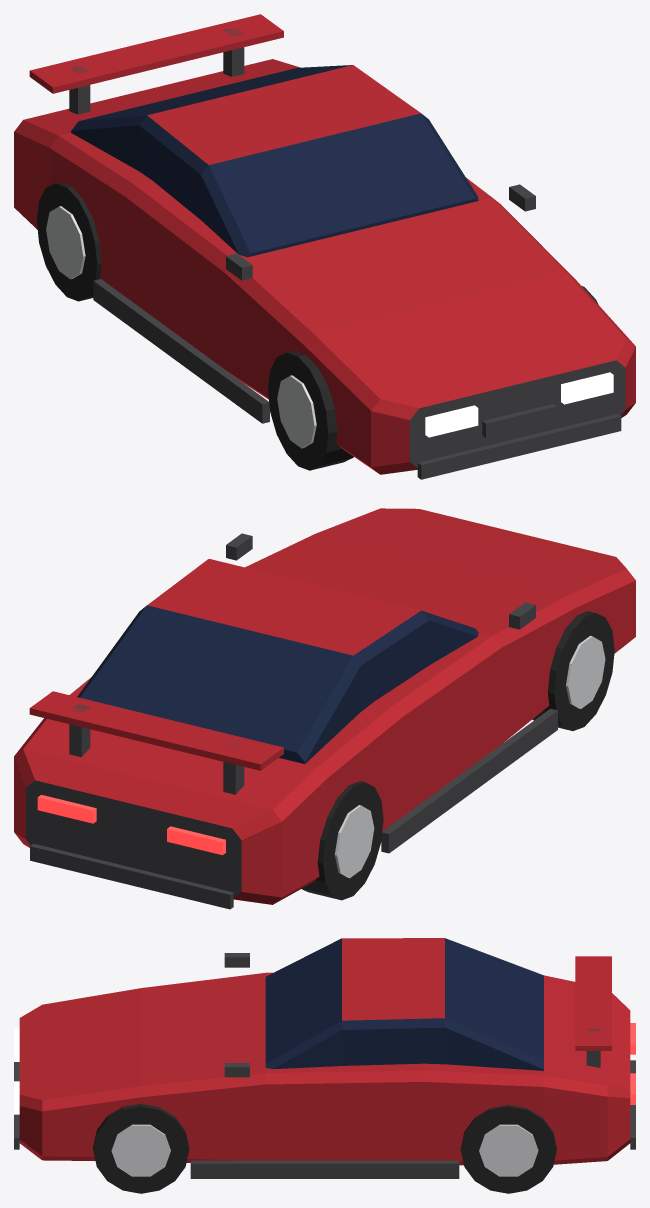
Rendered from car.glb.
3 views of the same model, one above another, from view 1: azimuth 30°, elevation 25°; view 2: azimuth 150°, elevation 25°; view 3: azimuth 270°, elevation 25° (orthographic). The views are drawn at different scales.
Parts seen in each view (by area): view 1: car; view 2: car; view 3: car.
Part boxes in pixels (bbox=[...]): car: bbox=[14, 14, 635, 479]; car: bbox=[14, 508, 635, 909]; car: bbox=[14, 938, 635, 1193].
Bounding box in the file's own units: 1.92 × 1.25 × 4.4.
